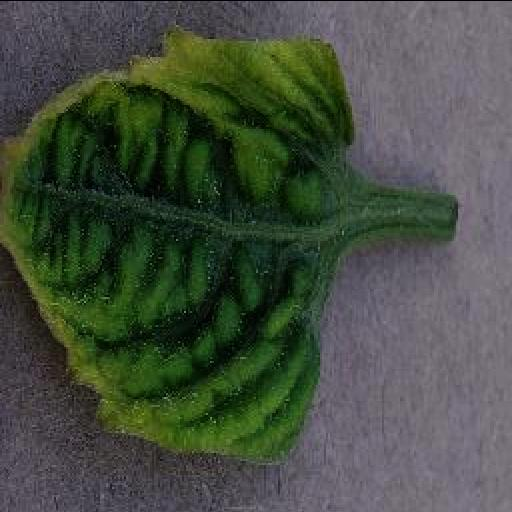disease_tomato: (0, 26, 352, 464)
